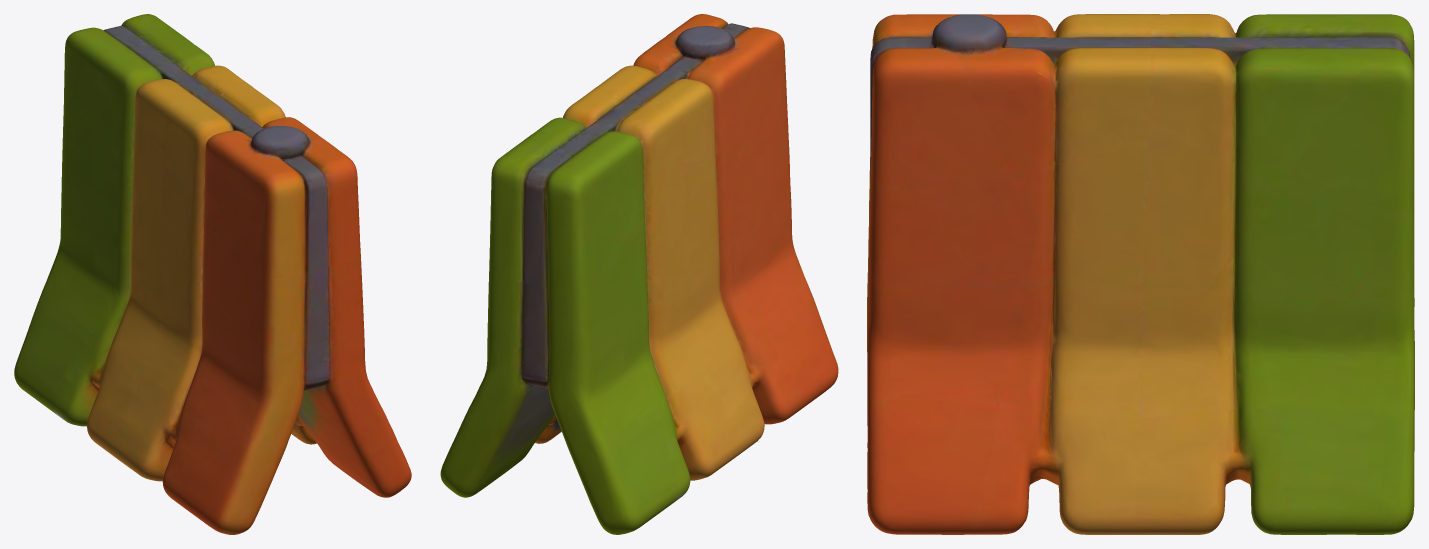
The model's file is barrier.glb.
3 views of the same model, side by side, from view 1: azimuth 30°, elevation 25°; view 2: azimuth 150°, elevation 25°; view 3: azimuth 270°, elevation 25° (orthographic). The views are drawn at different scales.
Parts seen in each view (by area): view 1: tripo_node_37ea9745-d1c4-43ac-a369-c4d1bc5aaea4; view 2: tripo_node_37ea9745-d1c4-43ac-a369-c4d1bc5aaea4; view 3: tripo_node_37ea9745-d1c4-43ac-a369-c4d1bc5aaea4.
Part boxes in pixels (box(x1,y1,x2,y2)): tripo_node_37ea9745-d1c4-43ac-a369-c4d1bc5aaea4: box(14, 14, 411, 534); tripo_node_37ea9745-d1c4-43ac-a369-c4d1bc5aaea4: box(440, 14, 838, 534); tripo_node_37ea9745-d1c4-43ac-a369-c4d1bc5aaea4: box(867, 14, 1414, 534).
Size of the model in its own units: 0.5064 by 0.8828 by 0.9494.
Materials: 1 (1 with a texture image).
